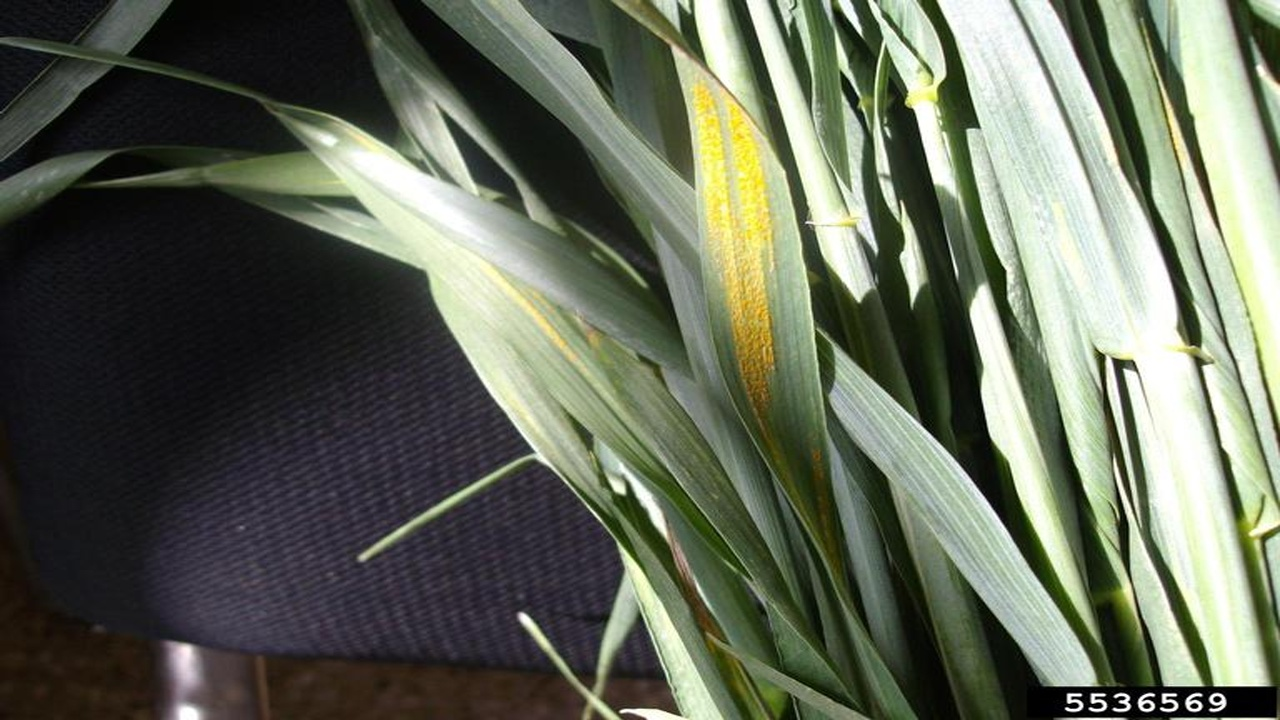stripe_rust: (256, 95, 784, 596), (671, 45, 907, 720)
